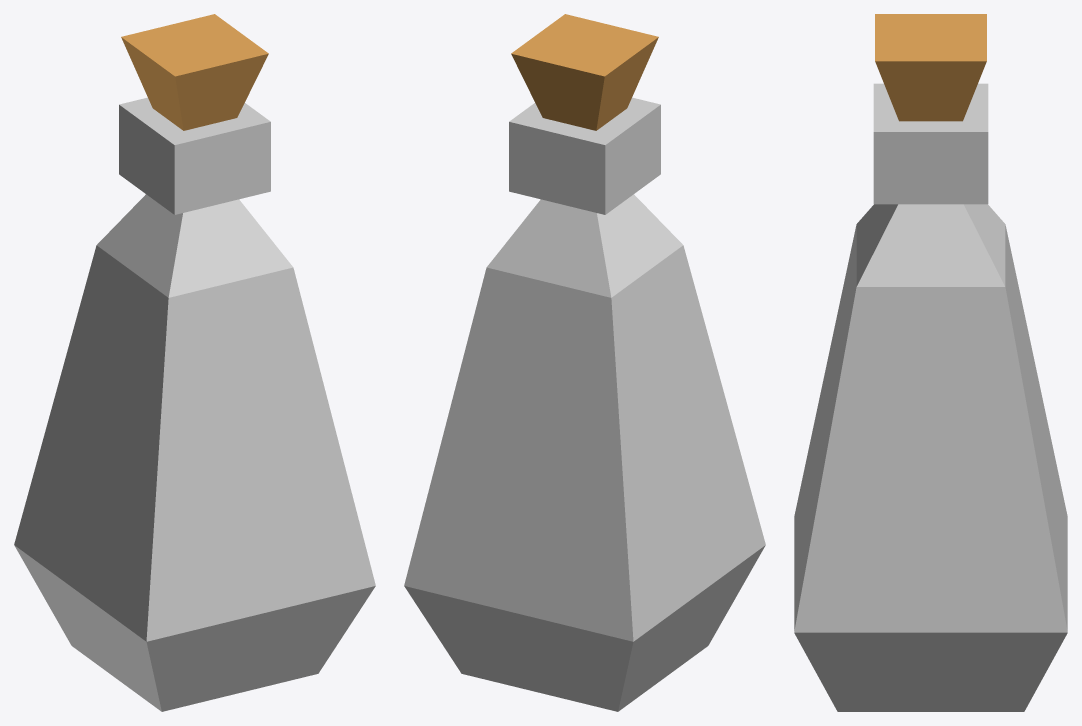
Rendered from Herb.fbx.
The picture shows the model from 3 angles, left to right: view 1: azimuth 30°, elevation 25°; view 2: azimuth 150°, elevation 25°; view 3: azimuth 270°, elevation 25°; orthographic projection. The views are drawn at different scales.
Parts seen in each view (by area): view 1: Cube; view 2: Cube; view 3: Cube.
Part boxes in pixels (<box>): Cube: <box>14,14,375,711</box>; Cube: <box>404,14,765,711</box>; Cube: <box>794,14,1067,711</box>.
Size of the model in its own units: 0.164 by 0.4199 by 0.164.
